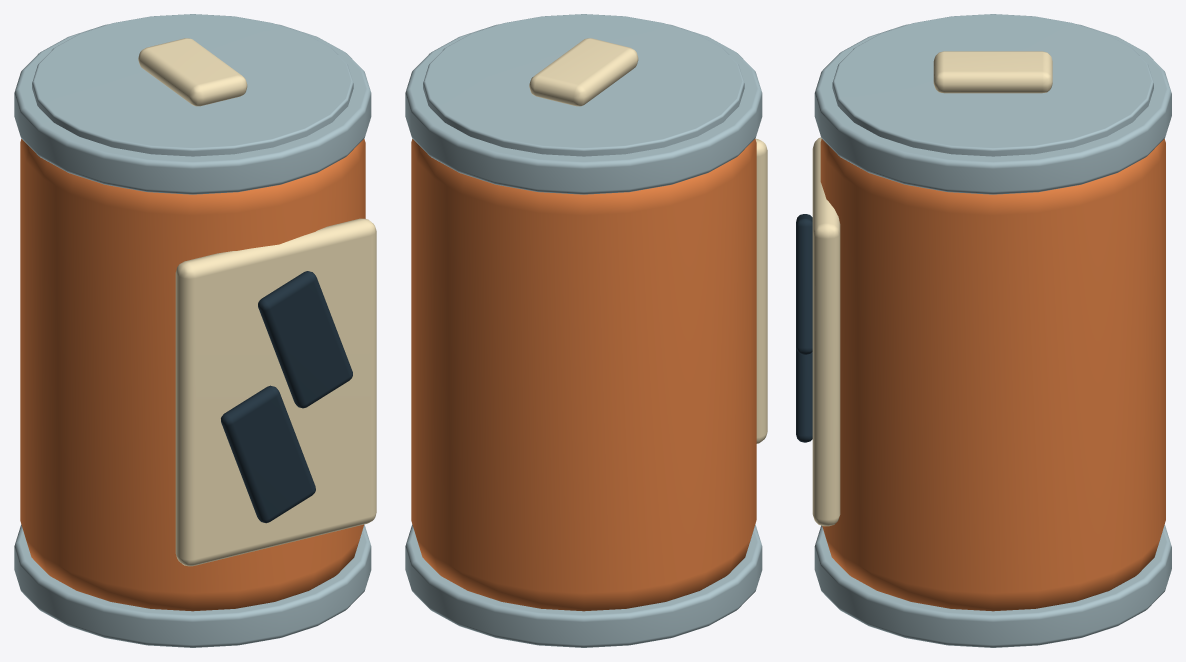
File: filled_can.glb
The picture shows the model from 3 angles, left to right: view 1: azimuth 30°, elevation 25°; view 2: azimuth 150°, elevation 25°; view 3: azimuth 270°, elevation 25°; orthographic projection.
Visible parts, largest first — view 1: Can body, Can badge, Lid, Rim.001, Rim, Bolt lower, Bolt upper, Pull tab; view 2: Can body, Lid, Rim.001, Rim, Pull tab, Can badge; view 3: Can body, Lid, Rim.001, Rim, Can badge, Pull tab, Bolt upper, Bolt lower.
Boxes of the visible parts, x1,y1,x2,y2 form: Can body: [20, 139, 365, 611]; Can badge: [175, 218, 376, 566]; Lid: [32, 14, 353, 156]; Rim.001: [14, 24, 371, 194]; Rim: [14, 524, 371, 647]; Bolt lower: [221, 385, 315, 523]; Bolt upper: [258, 271, 352, 408]; Pull tab: [138, 38, 247, 106]; Can body: [411, 139, 756, 611]; Lid: [423, 14, 744, 156]; Rim.001: [405, 24, 762, 194]; Rim: [405, 524, 762, 647]; Pull tab: [529, 38, 638, 106]; Can badge: [755, 138, 767, 443]; Can body: [820, 139, 1165, 611]; Lid: [832, 14, 1153, 156]; Rim.001: [814, 24, 1171, 194]; Rim: [814, 525, 1171, 647]; Can badge: [812, 137, 840, 526]; Pull tab: [933, 51, 1052, 93]; Bolt upper: [796, 214, 812, 354]; Bolt lower: [796, 347, 812, 442].
Size of the model in its own units: 0.3 by 0.475 by 0.3155.
